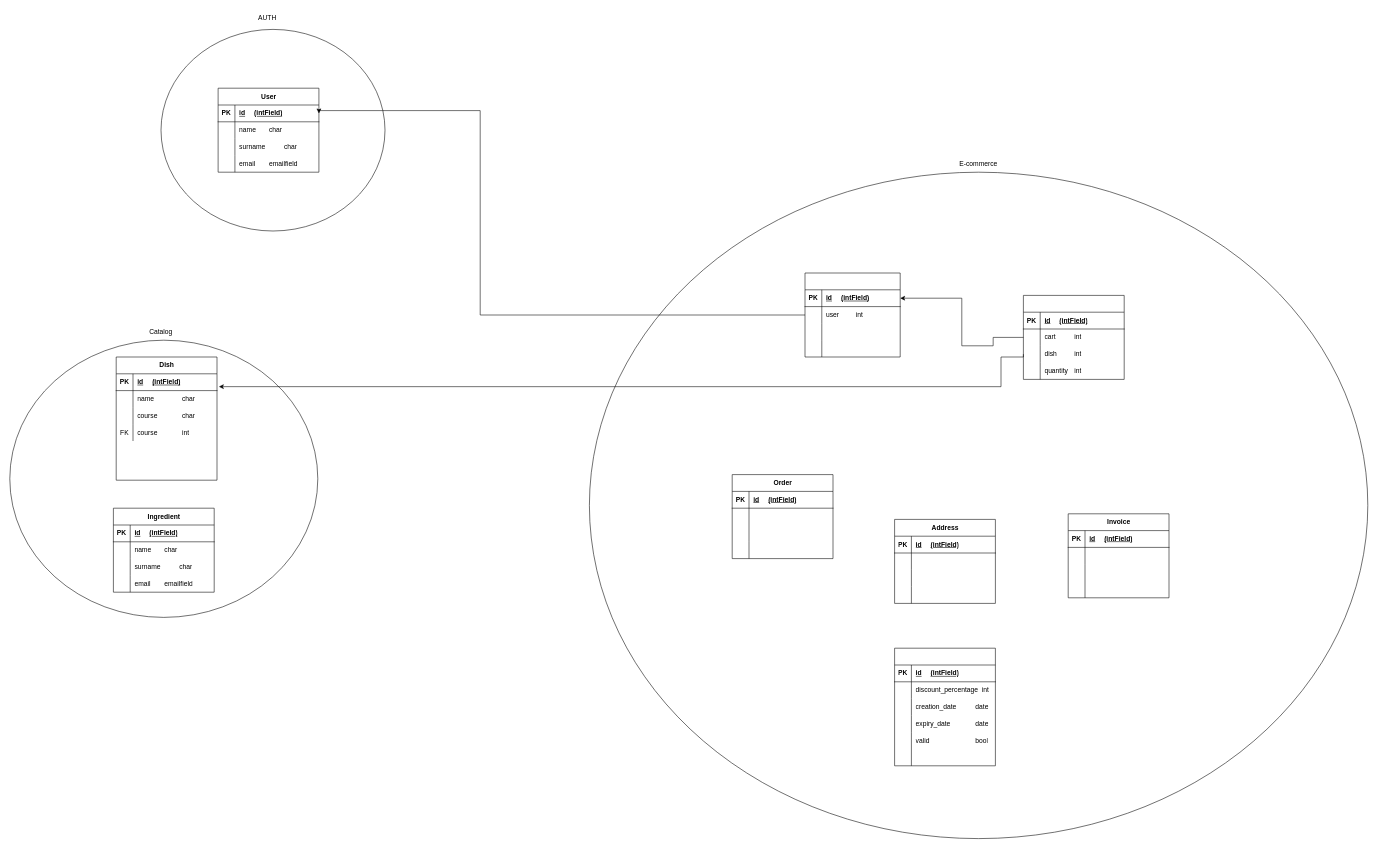
This 1378x848 diagram has some shape labels left out. The box of each missing label's shape, as (x1, y1, x2, y2) in pixels:
Cart: (804, 272, 900, 357)
Cart_dish: (1023, 295, 1124, 379)
Voucher: (894, 648, 995, 766)
